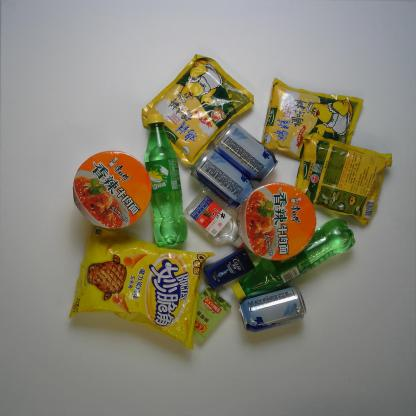Alcohol: (186, 144, 258, 213), (210, 118, 280, 184), (178, 189, 250, 253), (237, 282, 309, 339)
Candy: (186, 283, 234, 343)
Drink: (222, 215, 358, 303), (144, 109, 188, 249)
Instant Noodles: (71, 147, 156, 234), (243, 177, 319, 266)
Personal Hygiene: (200, 246, 260, 291)
Puffed Food: (62, 222, 215, 350)
Seasoner: (139, 52, 258, 165), (286, 132, 395, 228), (262, 77, 366, 165)
